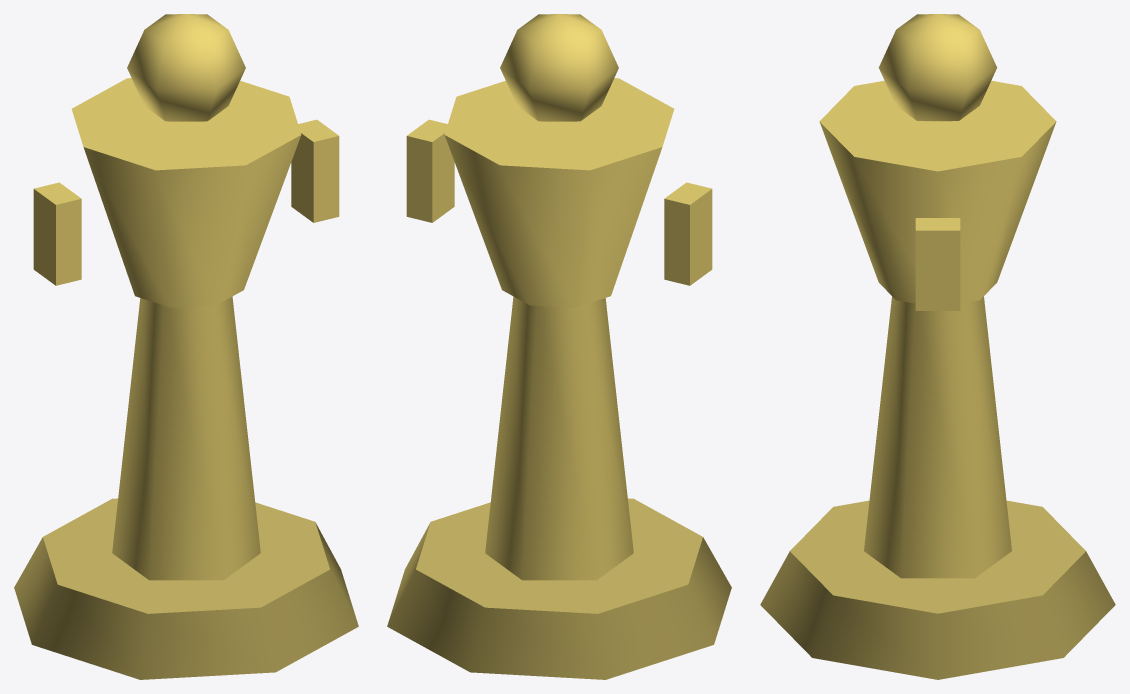
Rendered from trophy.glb.
3 views of the same model, side by side, from view 1: azimuth 30°, elevation 25°; view 2: azimuth 150°, elevation 25°; view 3: azimuth 270°, elevation 25° (orthographic).
Parts seen in each view (by area): view 1: neck, base; view 2: neck, base; view 3: neck, base.
Part boxes in pixels (left/top/right/bottom): neck: left=33, top=14, right=339, bottom=580; base: left=14, top=498, right=358, bottom=679; neck: left=406, top=14, right=712, bottom=580; base: left=387, top=498, right=731, bottom=679; neck: left=819, top=14, right=1056, bottom=578; base: left=760, top=500, right=1115, bottom=679.
Size of the model in its own units: 0.12 by 0.22 by 0.12.
